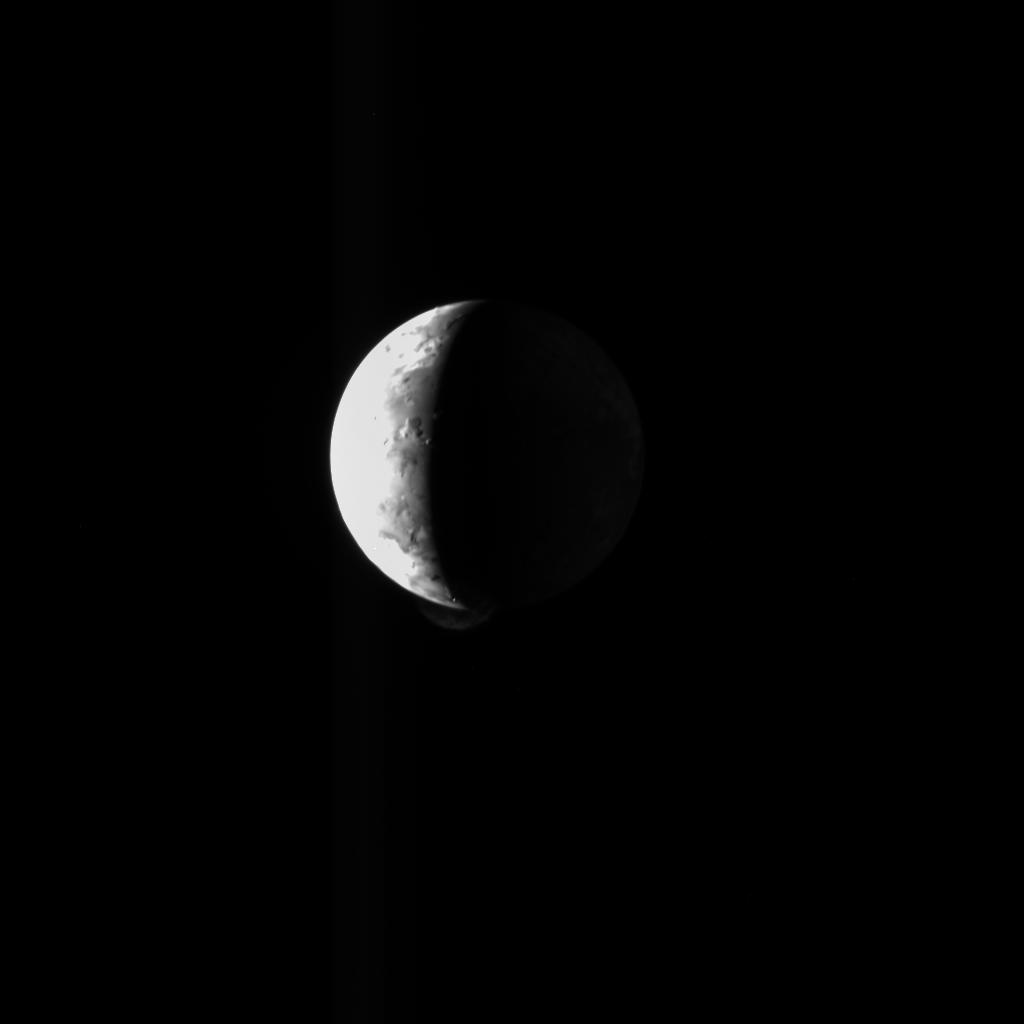plumes: (415, 603, 483, 630)
